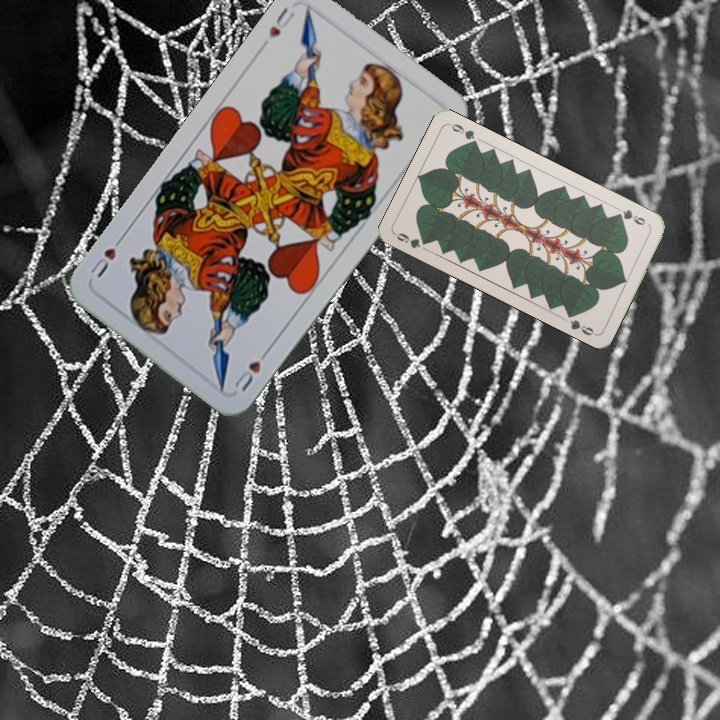G9: (612, 206, 652, 229), (391, 229, 432, 251)
HU: (230, 343, 274, 394), (264, 3, 298, 41)
